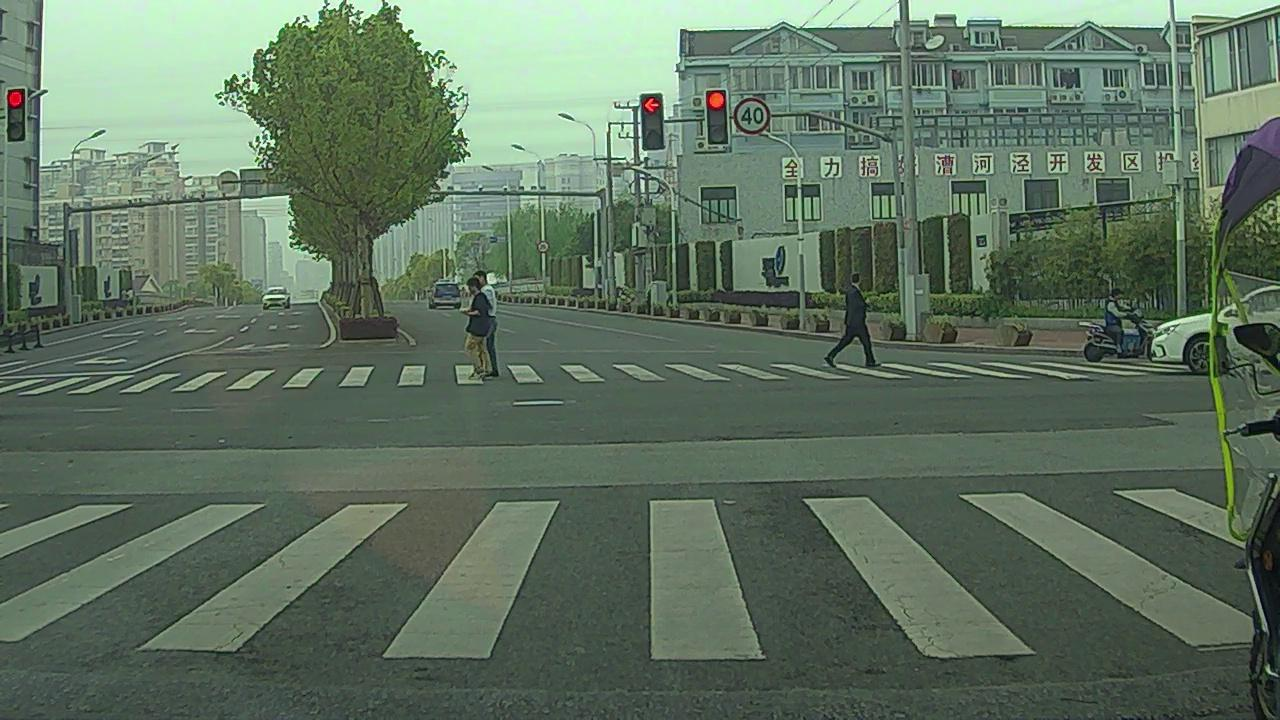traffic_light: (641, 94, 663, 149), (706, 91, 728, 144)
